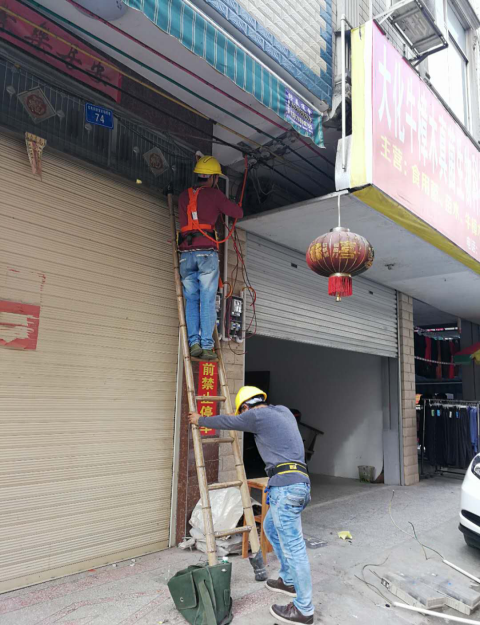downcloth: (265, 478, 318, 621), (180, 254, 222, 346)
halt: (193, 156, 226, 188), (235, 386, 269, 416)
hand: (185, 409, 202, 429)
inear: (209, 173, 221, 185)
person: (196, 383, 321, 623), (174, 153, 237, 357)
safebelt: (181, 151, 249, 243)
support: (186, 375, 330, 625)
upcloth: (202, 405, 311, 483), (181, 186, 231, 250)
